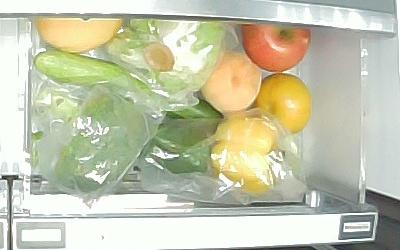apple: (240, 25, 314, 72)
broccoli_vinyl: (31, 87, 154, 195)
cucumber: (33, 50, 221, 119)
grapefruit: (32, 17, 125, 52)
lettuce_vinyl: (107, 19, 224, 94)
paprika_vinyl: (211, 118, 288, 197), (144, 115, 213, 176)
peach: (200, 50, 263, 113)
persimmon: (257, 72, 312, 134)
